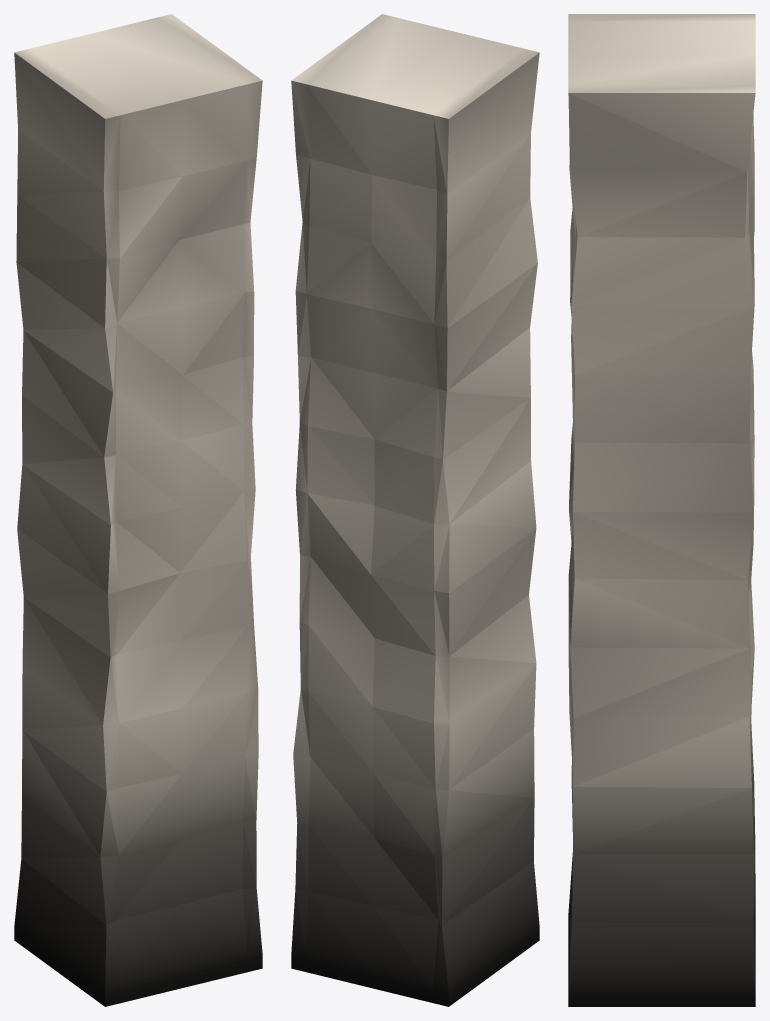
File: SM_VKI_Post_Cave_Corner_Full.fbx
3 renders of one model, left to right at view 1: azimuth 30°, elevation 25°; view 2: azimuth 150°, elevation 25°; view 3: azimuth 270°, elevation 25°, orthographic. The views are drawn at different scales.
Parts seen in each view (by area): view 1: SM_VKI_Post_Cave_Corner_Full.001; view 2: SM_VKI_Post_Cave_Corner_Full.001; view 3: SM_VKI_Post_Cave_Corner_Full.001.
Boxes of the visible parts, bbox=[...] form: SM_VKI_Post_Cave_Corner_Full.001: bbox=[14, 14, 262, 1006]; SM_VKI_Post_Cave_Corner_Full.001: bbox=[291, 14, 539, 1006]; SM_VKI_Post_Cave_Corner_Full.001: bbox=[568, 14, 755, 1006].
Bounding box in the file's own units: 0.62 × 3.34 × 0.62.
